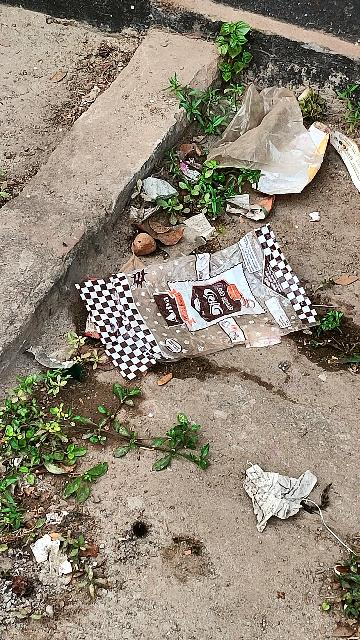polythene: (94, 245, 325, 351)
